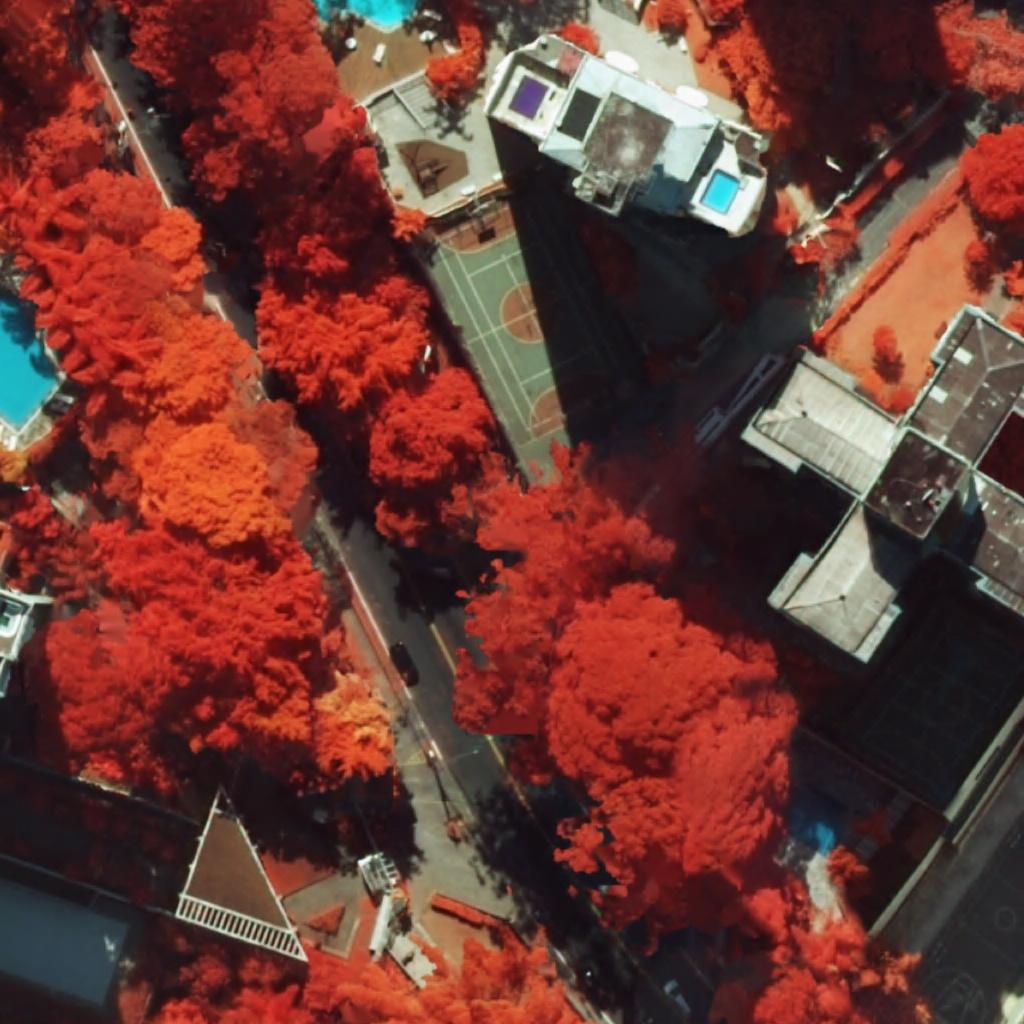pool: (0, 286, 59, 433), (314, 0, 417, 29), (791, 804, 841, 858), (699, 169, 741, 215), (508, 76, 550, 121)
